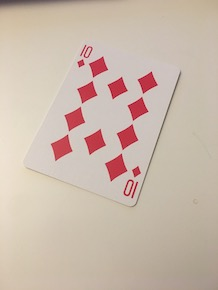TenOfDiamonds: (20, 36, 182, 211)
